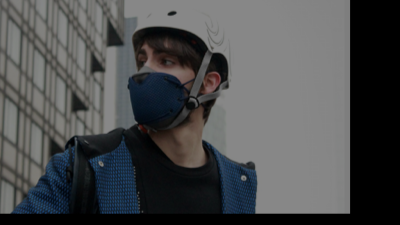with_mask: (128, 46, 197, 130)
